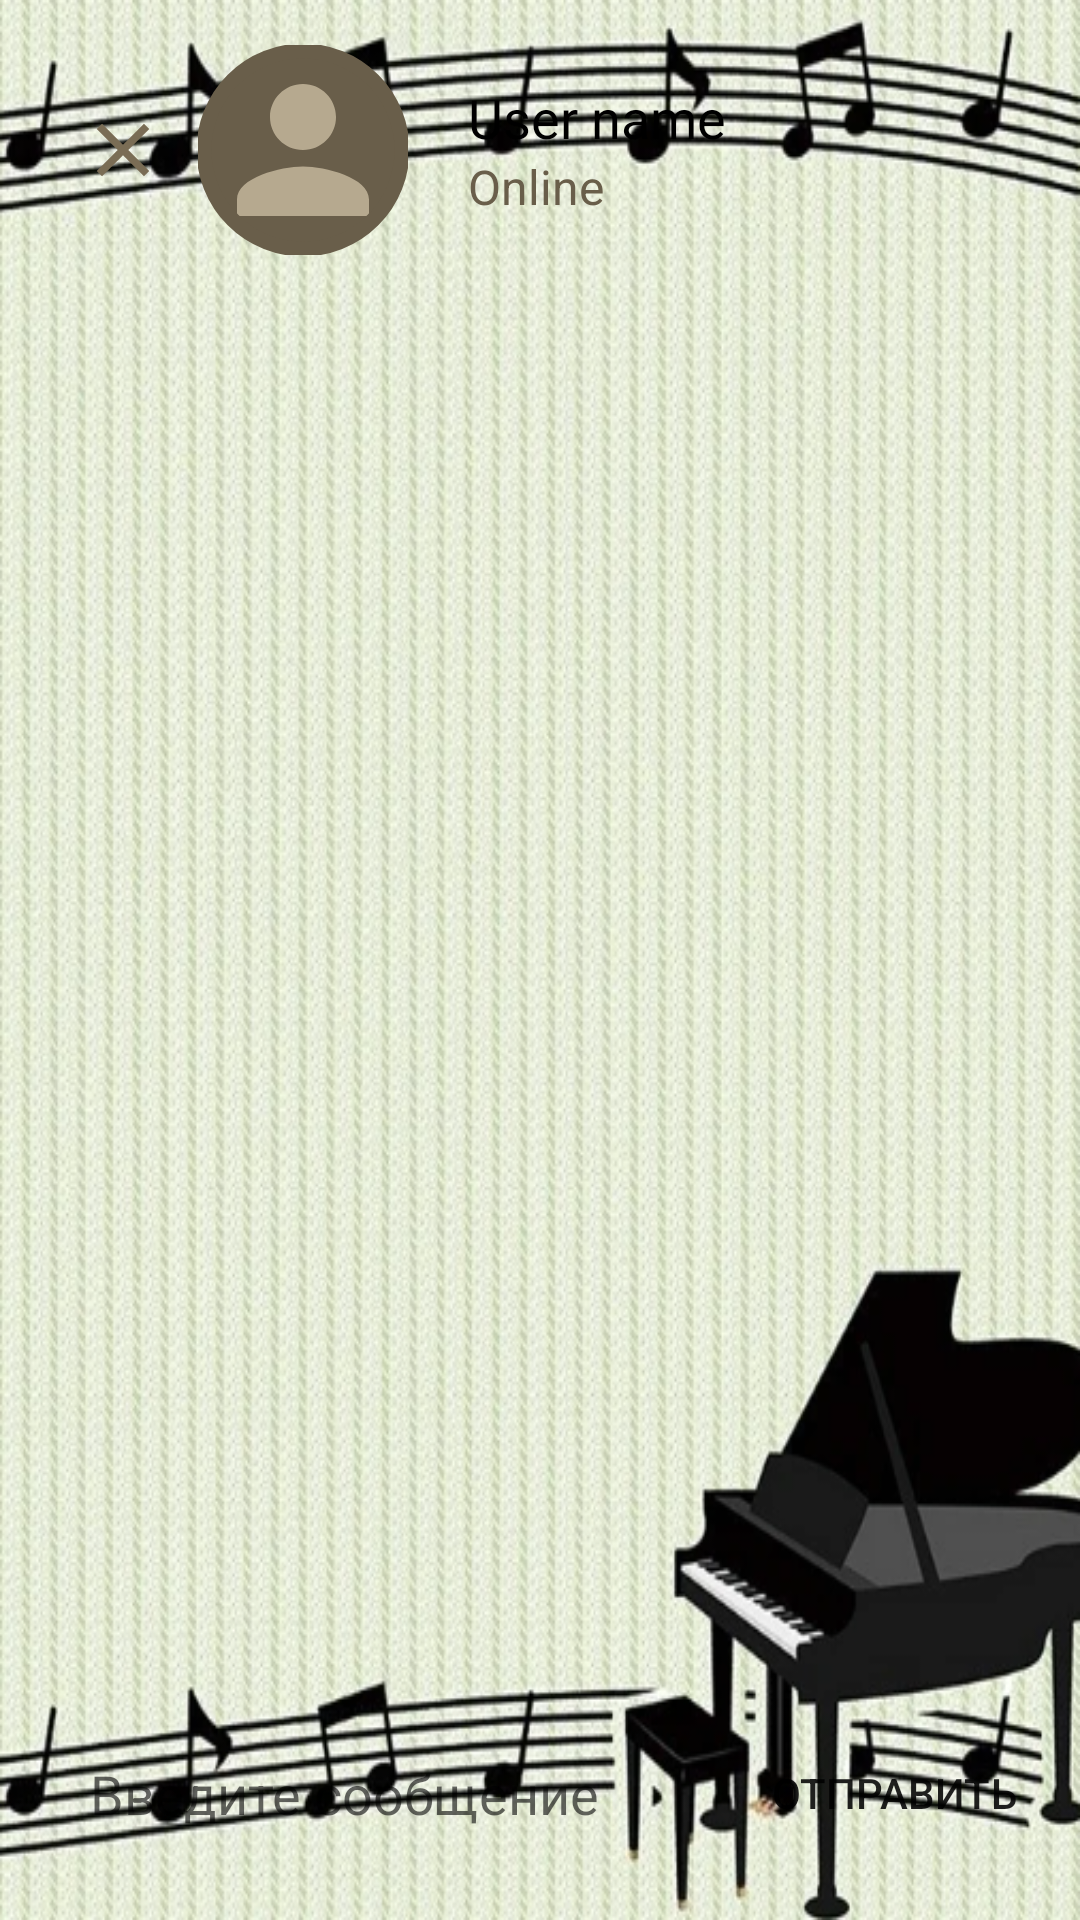

Screen size 1080x1920. Icon name, then its center in pixels as (x=x, y=y):
close: (x=123, y=150)
person: (x=303, y=150)
